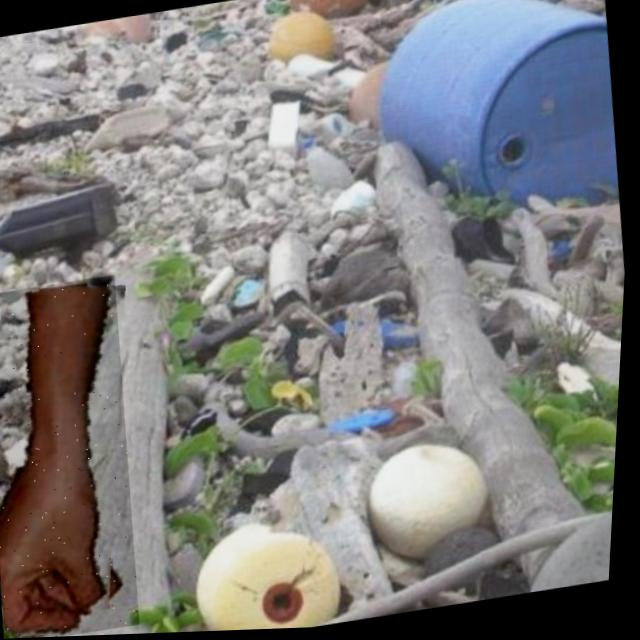Person in Rubble: (0, 274, 160, 640)
